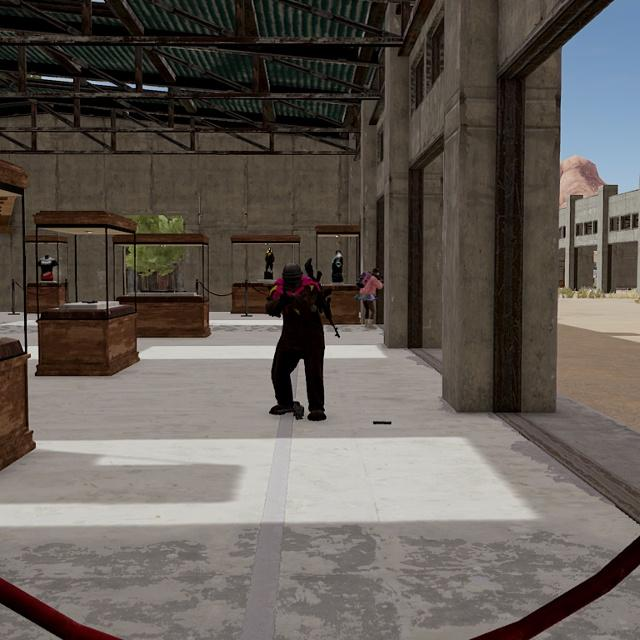head: (281, 261, 304, 292), (371, 265, 382, 278)
people: (262, 260, 328, 421), (355, 264, 384, 331)
